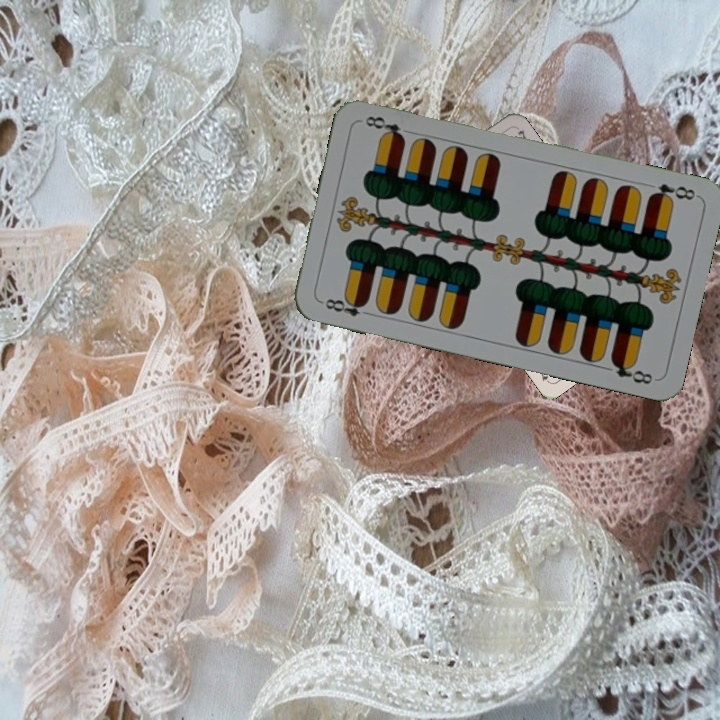E8: (317, 293, 375, 319), (645, 179, 700, 205)
